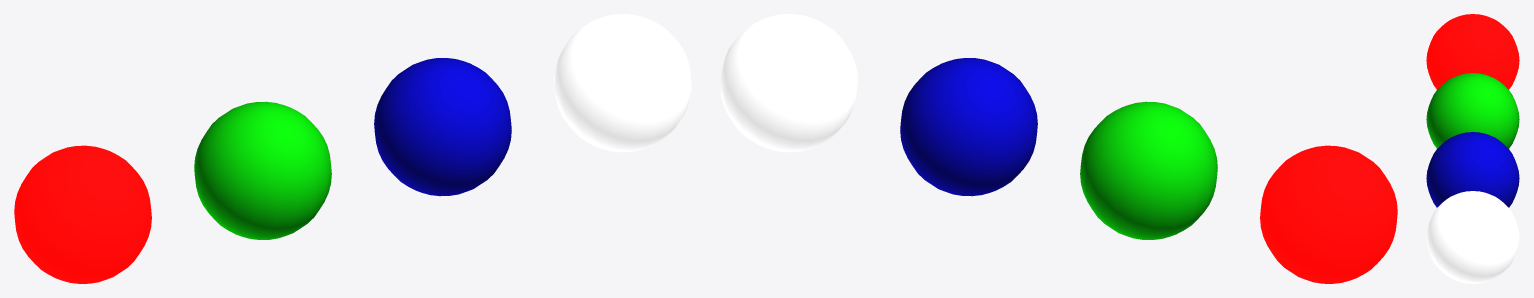
The model's file is Unlit.gltf.
3 renders of one model, left to right at view 1: azimuth 30°, elevation 25°; view 2: azimuth 150°, elevation 25°; view 3: azimuth 270°, elevation 25°, orthographic. The views are drawn at different scales.
Parts seen in each view (by area): view 1: pSphere2, pSphere3, pSphere1, pSphere4; view 2: pSphere2, pSphere3, pSphere1, pSphere4; view 3: pSphere4, pSphere2, pSphere3, pSphere1.
Part boxes in pixels (x1,y1,x2,y2): pSphere2: (194, 101, 331, 239); pSphere3: (374, 58, 511, 196); pSphere1: (14, 145, 151, 283); pSphere4: (554, 14, 691, 152); pSphere2: (1080, 101, 1217, 239); pSphere3: (900, 58, 1037, 196); pSphere1: (1260, 145, 1397, 283); pSphere4: (720, 14, 857, 152); pSphere4: (1426, 191, 1519, 283); pSphere2: (1426, 73, 1519, 148); pSphere3: (1426, 132, 1519, 207); pSphere1: (1426, 14, 1519, 89).
Bounding box in the file's own units: 11 × 2 × 2.
